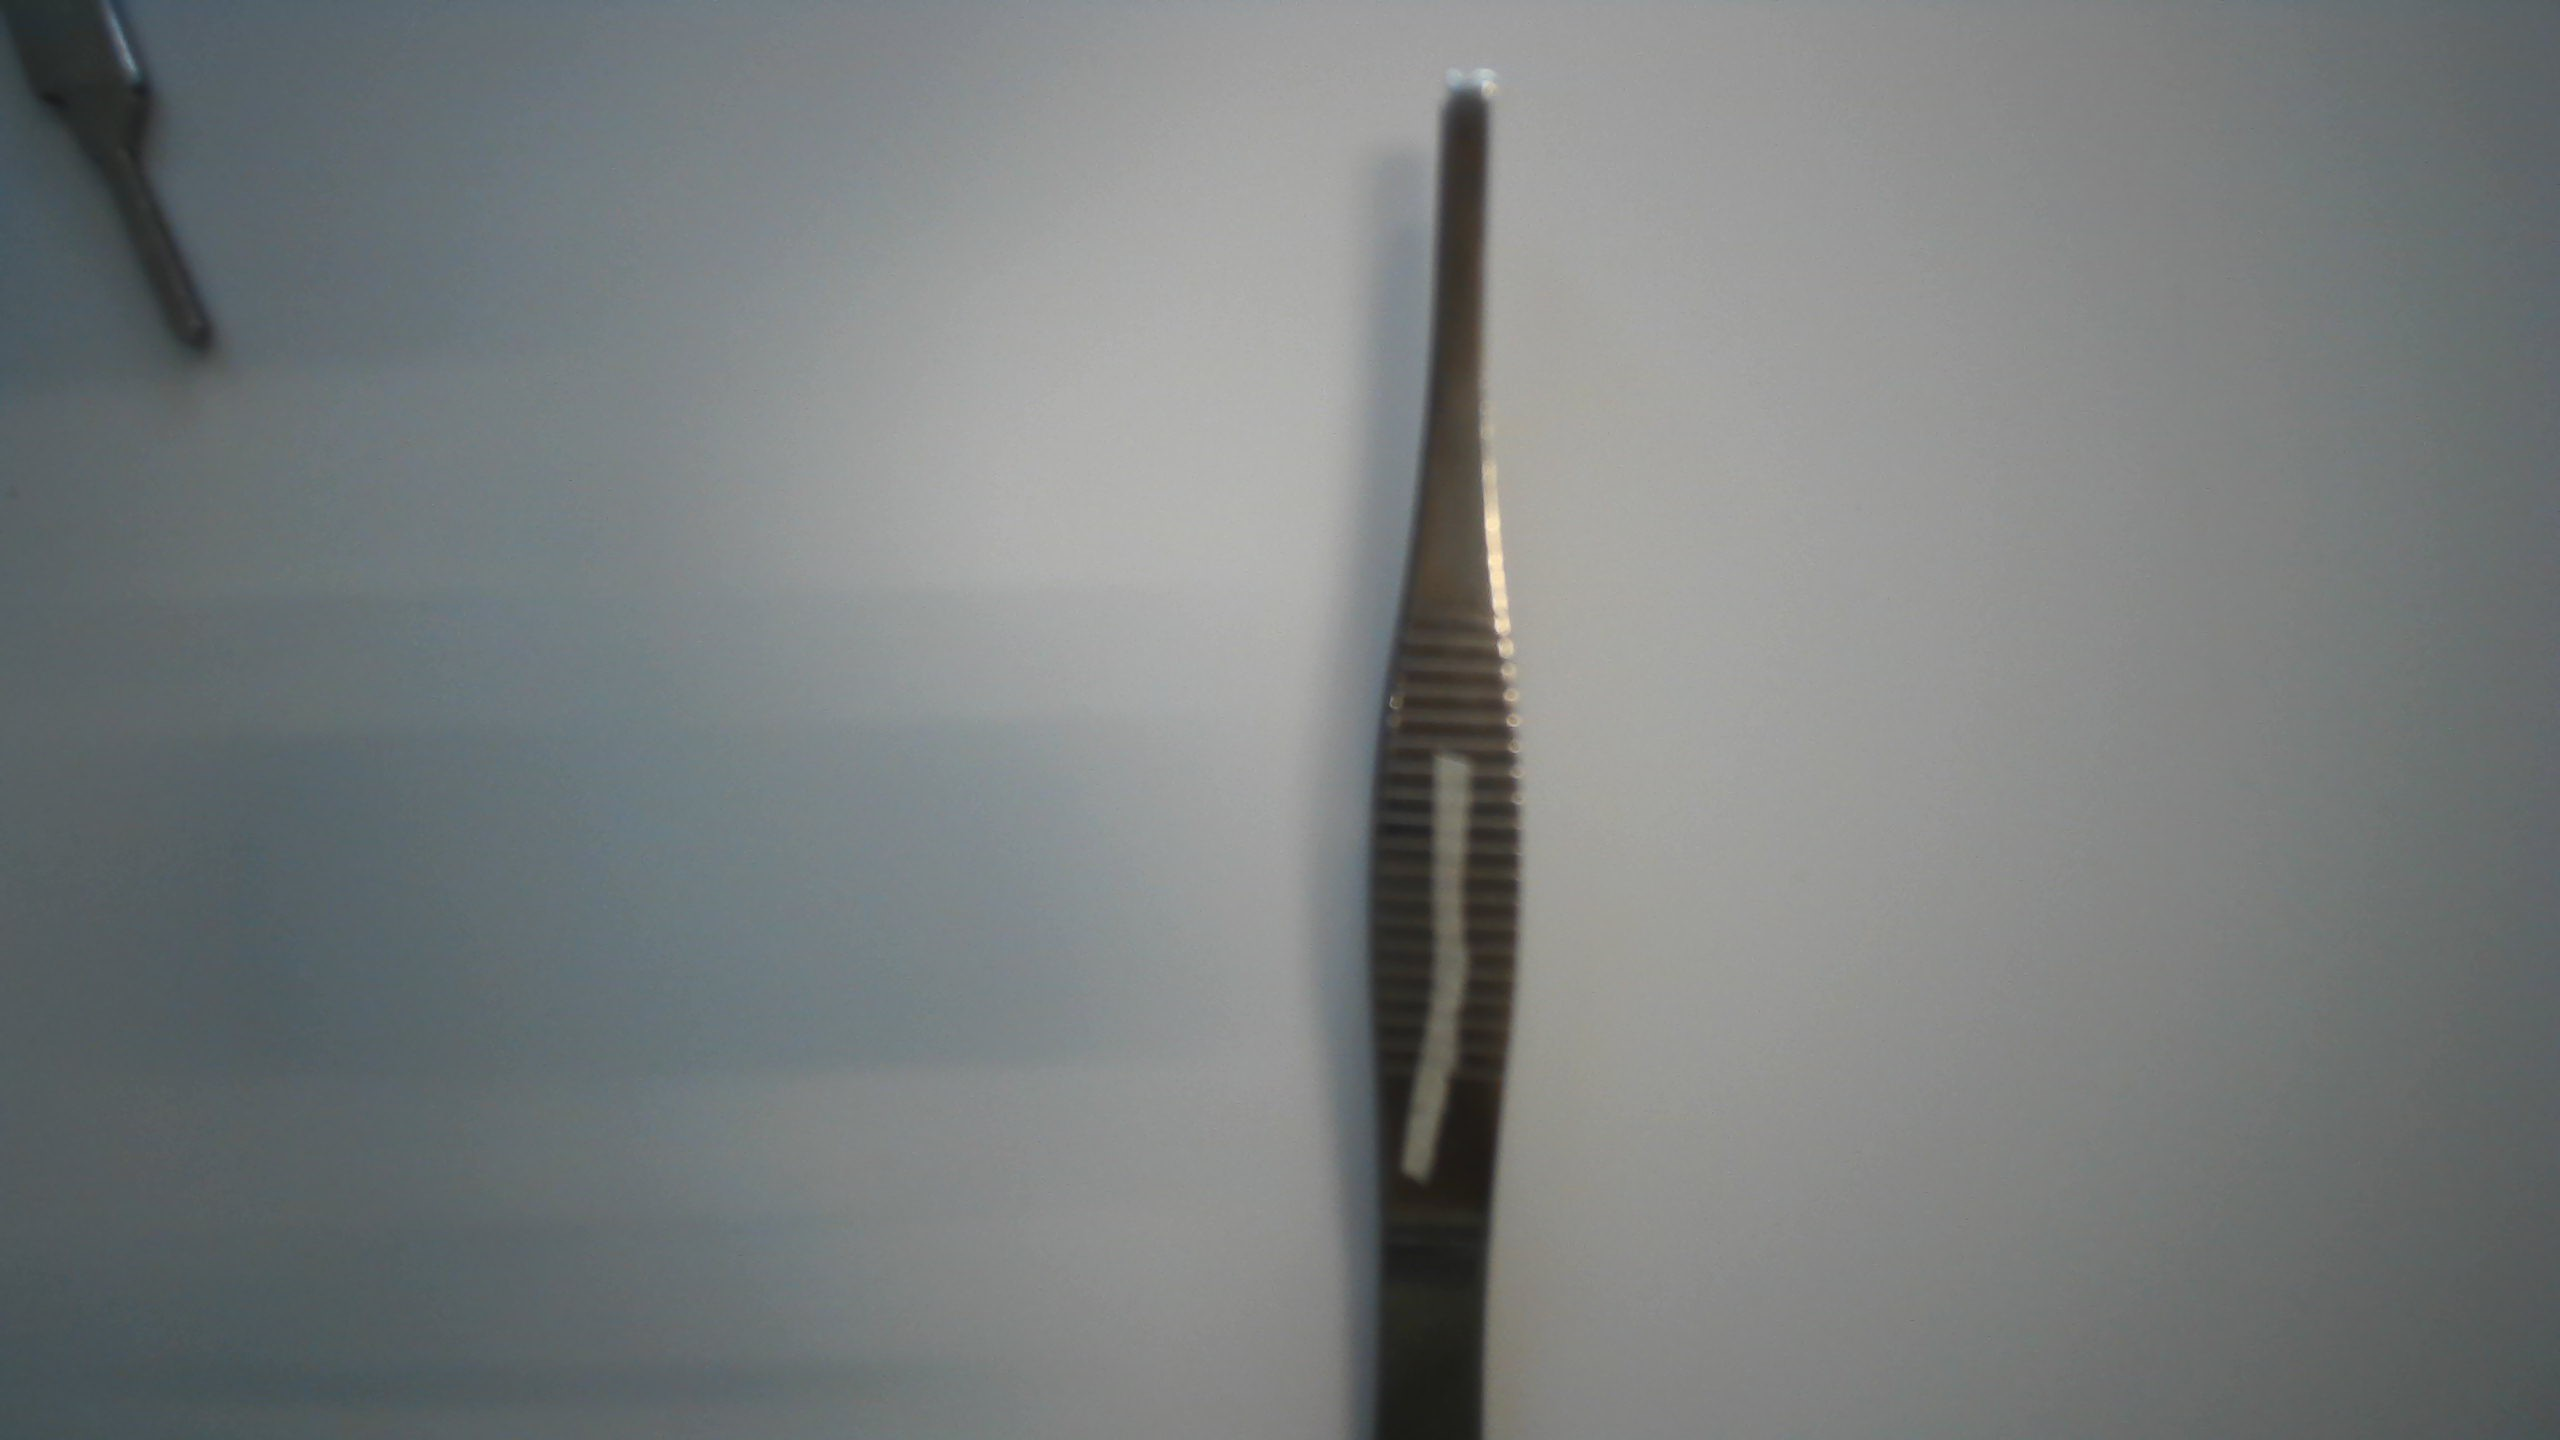Scratches: (1389, 747, 1484, 1178)
